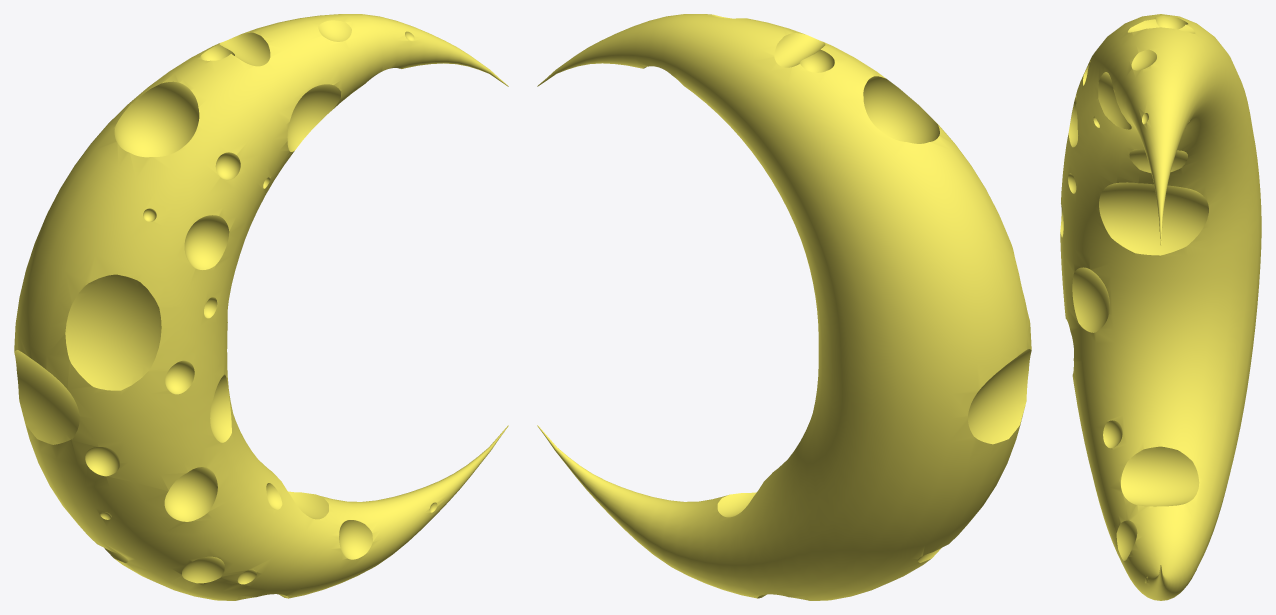
Rendered from cheese_moon.glb.
3 views of the same model, side by side, from view 1: azimuth 30°, elevation 25°; view 2: azimuth 150°, elevation 25°; view 3: azimuth 270°, elevation 25° (orthographic). The views are drawn at different scales.
Visible parts, largest first — view 1: Moon.001; view 2: Moon.001; view 3: Moon.001.
Boxes of the visible parts, x1,y1,x2,y2 form: Moon.001: [14, 14, 508, 600]; Moon.001: [537, 14, 1031, 600]; Moon.001: [1060, 14, 1261, 600].
Bounding box in the file's own units: 4.27 × 4.82 × 1.65.
